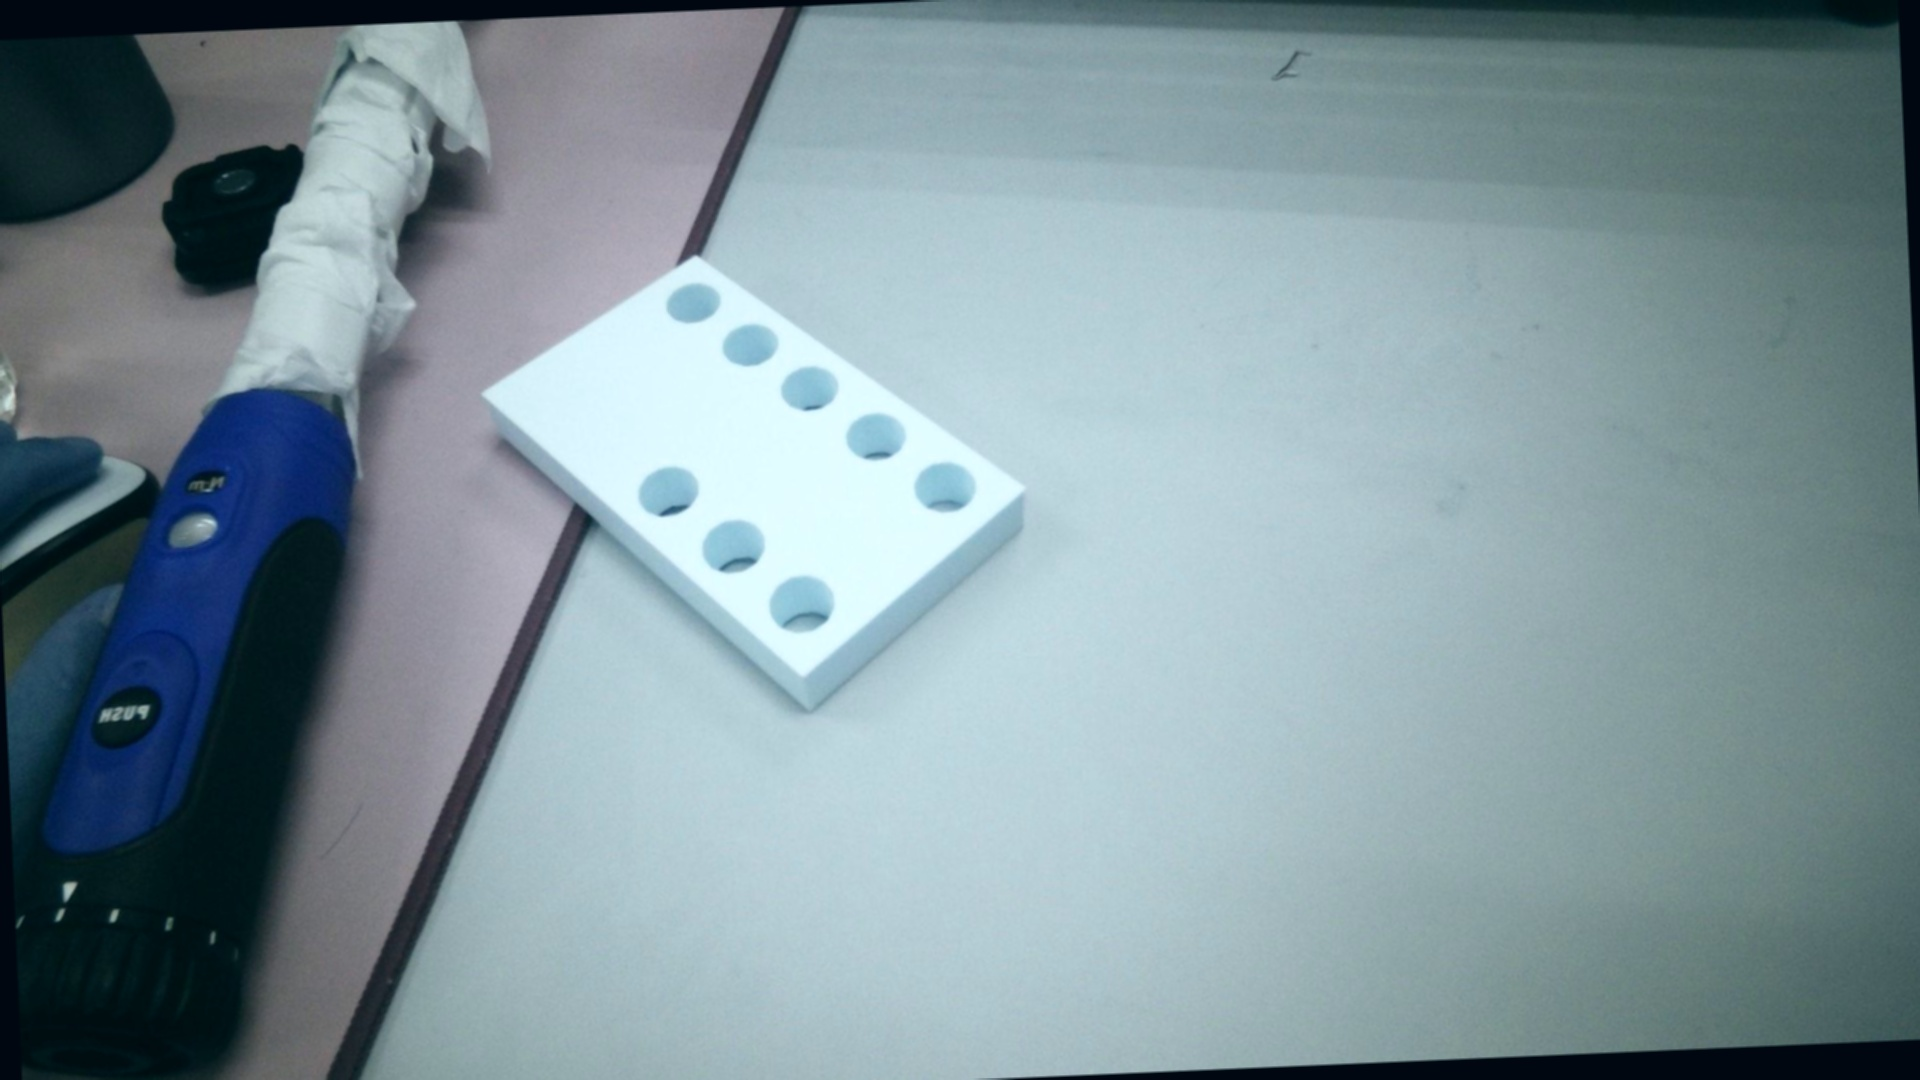hole: (696, 513, 767, 582), (767, 571, 837, 640), (775, 359, 843, 414), (841, 409, 909, 464), (913, 463, 982, 514), (636, 462, 700, 516), (661, 280, 725, 322), (724, 320, 781, 364)
obj: (459, 229, 1048, 748)
